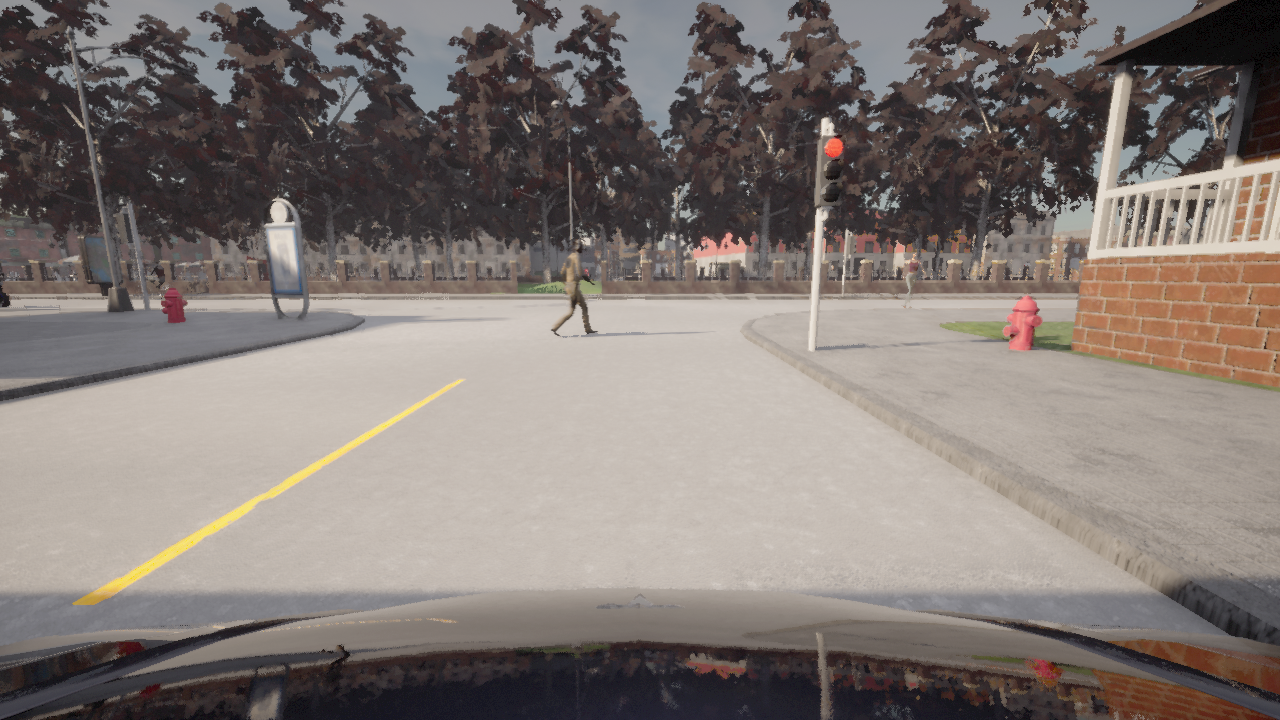cyclist: (0, 588, 1279, 719), (135, 275, 174, 300)
pedestrian: (549, 240, 598, 337), (901, 249, 925, 308)
